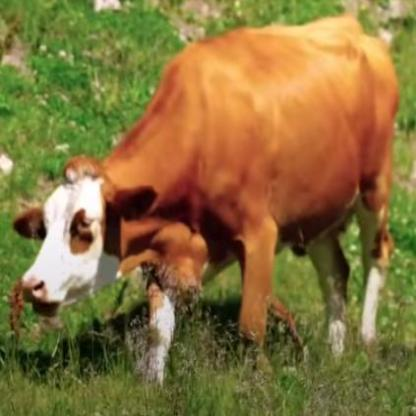cow: (11, 14, 400, 387)
